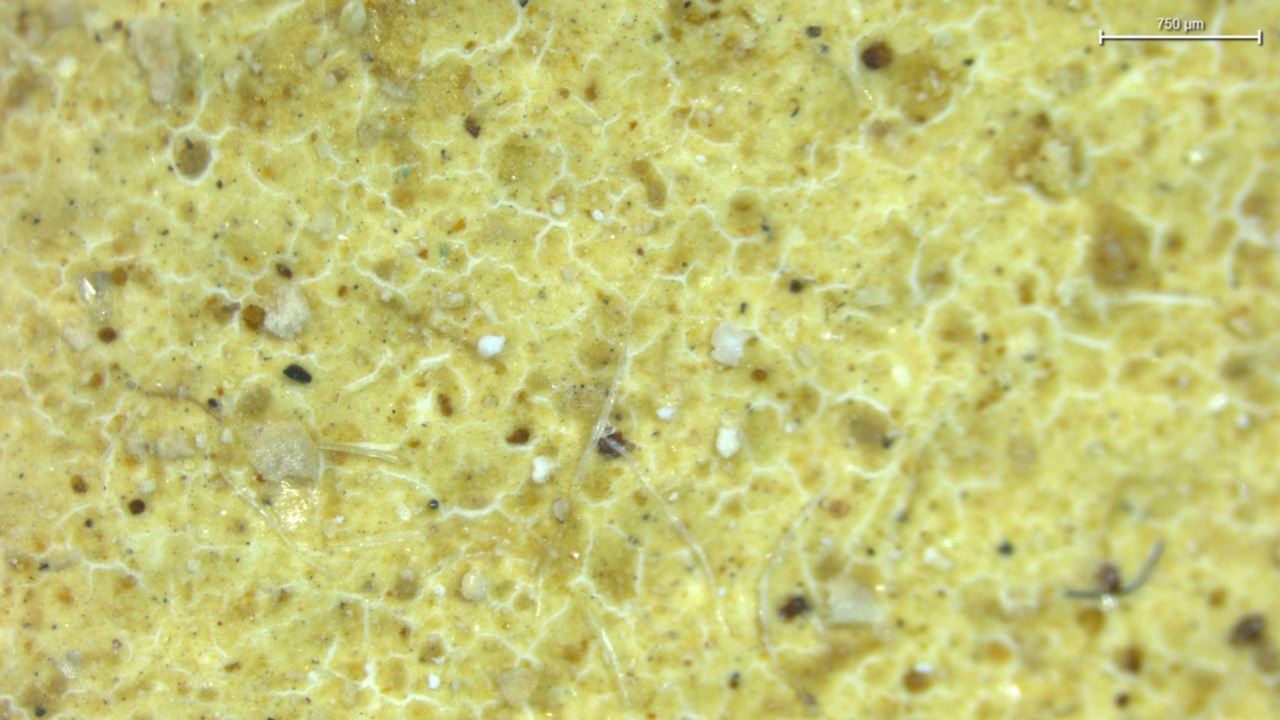microplastic_fragment: (264, 284, 310, 339), (477, 335, 505, 358)
